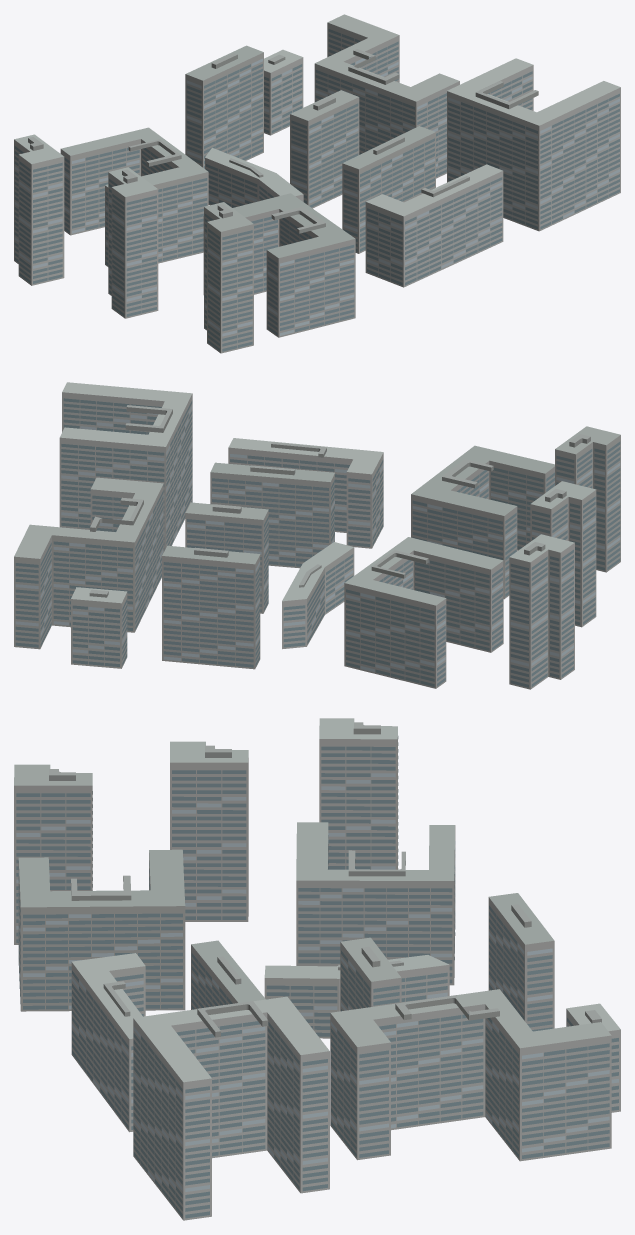
File: apt-a10024468.glb
3 views of the same model, one above another, from view 1: azimuth 30°, elevation 25°; view 2: azimuth 150°, elevation 25°; view 3: azimuth 270°, elevation 25° (orthographic). The views are drawn at different scales.
Parts seen in each view (by area): view 1: apt-a10024468; view 2: apt-a10024468; view 3: apt-a10024468.
Boxes of the visible parts, left/top/right/bottom form: apt-a10024468: left=14, top=14, right=620, bottom=353; apt-a10024468: left=14, top=382, right=620, bottom=689; apt-a10024468: left=14, top=718, right=620, bottom=1220.
Size of the model in its own units: 317 by 71 by 237.
